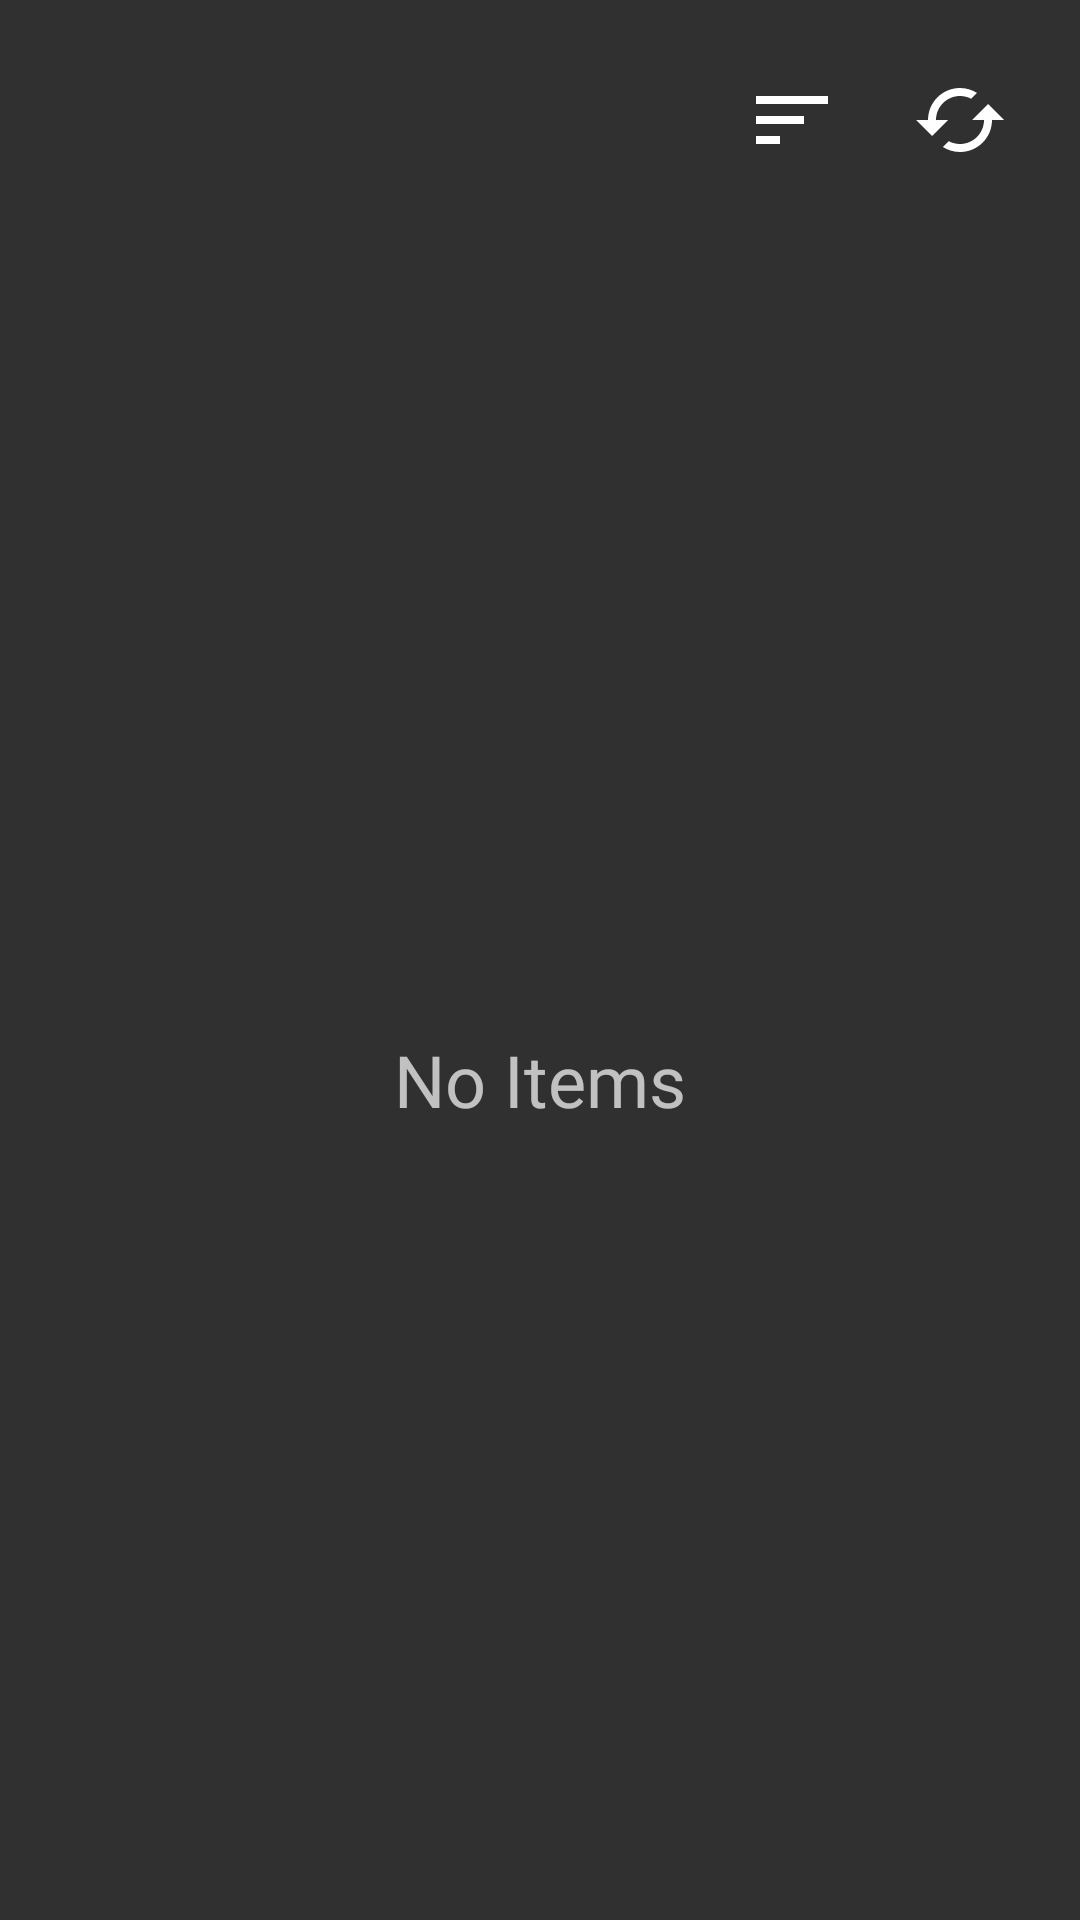

Locate icon controls on the screen. Image size 1080 x 1920, boxes as {"left": x1, "top": y1, "right": x2, "bottom": y2}.
list items refresh: {"left": 916, "top": 88, "right": 1004, "bottom": 152}
list items sort: {"left": 756, "top": 96, "right": 828, "bottom": 144}
